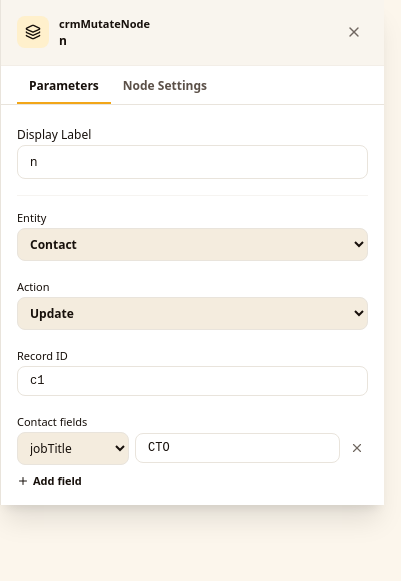
Automation Drawers › real action fields › blank contact field rows › a blank row stays on screen but is not written into config.fields
Click the button with test id "crm-add-field-btn": (49, 481) [17, 472, 82, 489]
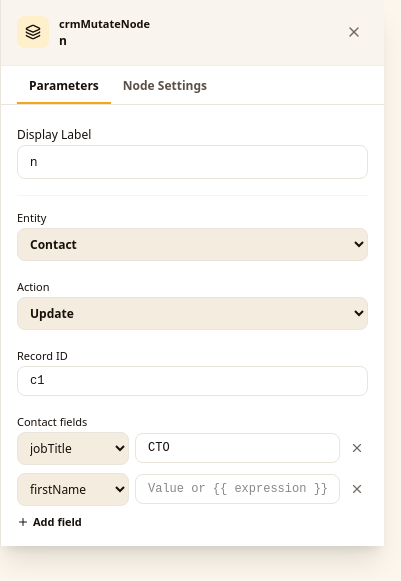
Result: the field with test id "crm-field-value-1" is shown at [135, 474, 340, 504]
